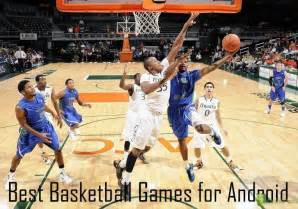basketball: (221, 33, 239, 51)
